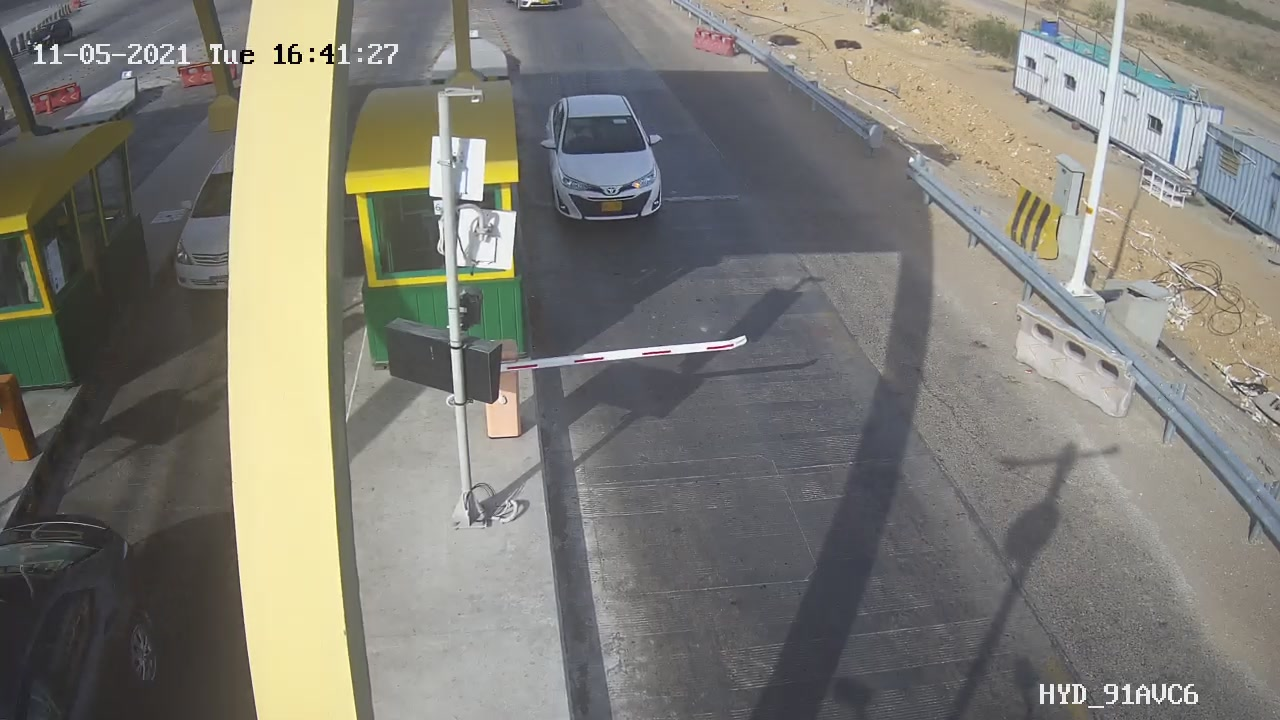F1: (524, 79, 699, 247)
